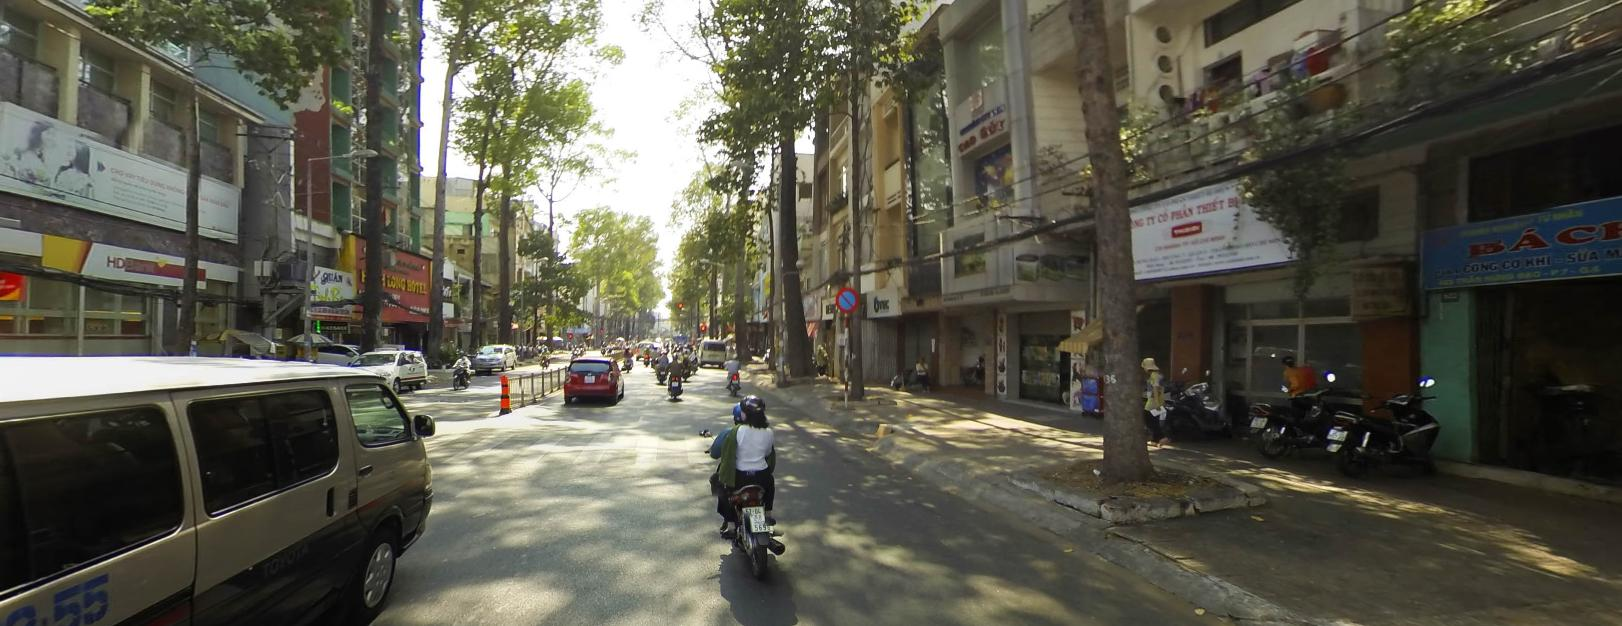Cam dung va do: (834, 285, 859, 311)
